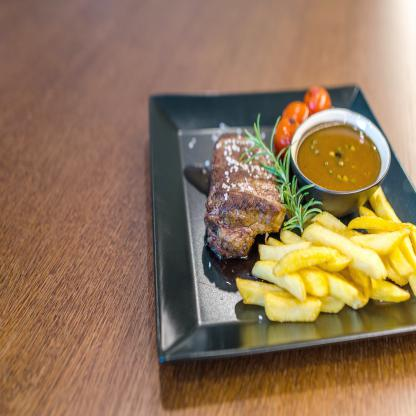Carne: (201, 134, 279, 268)
